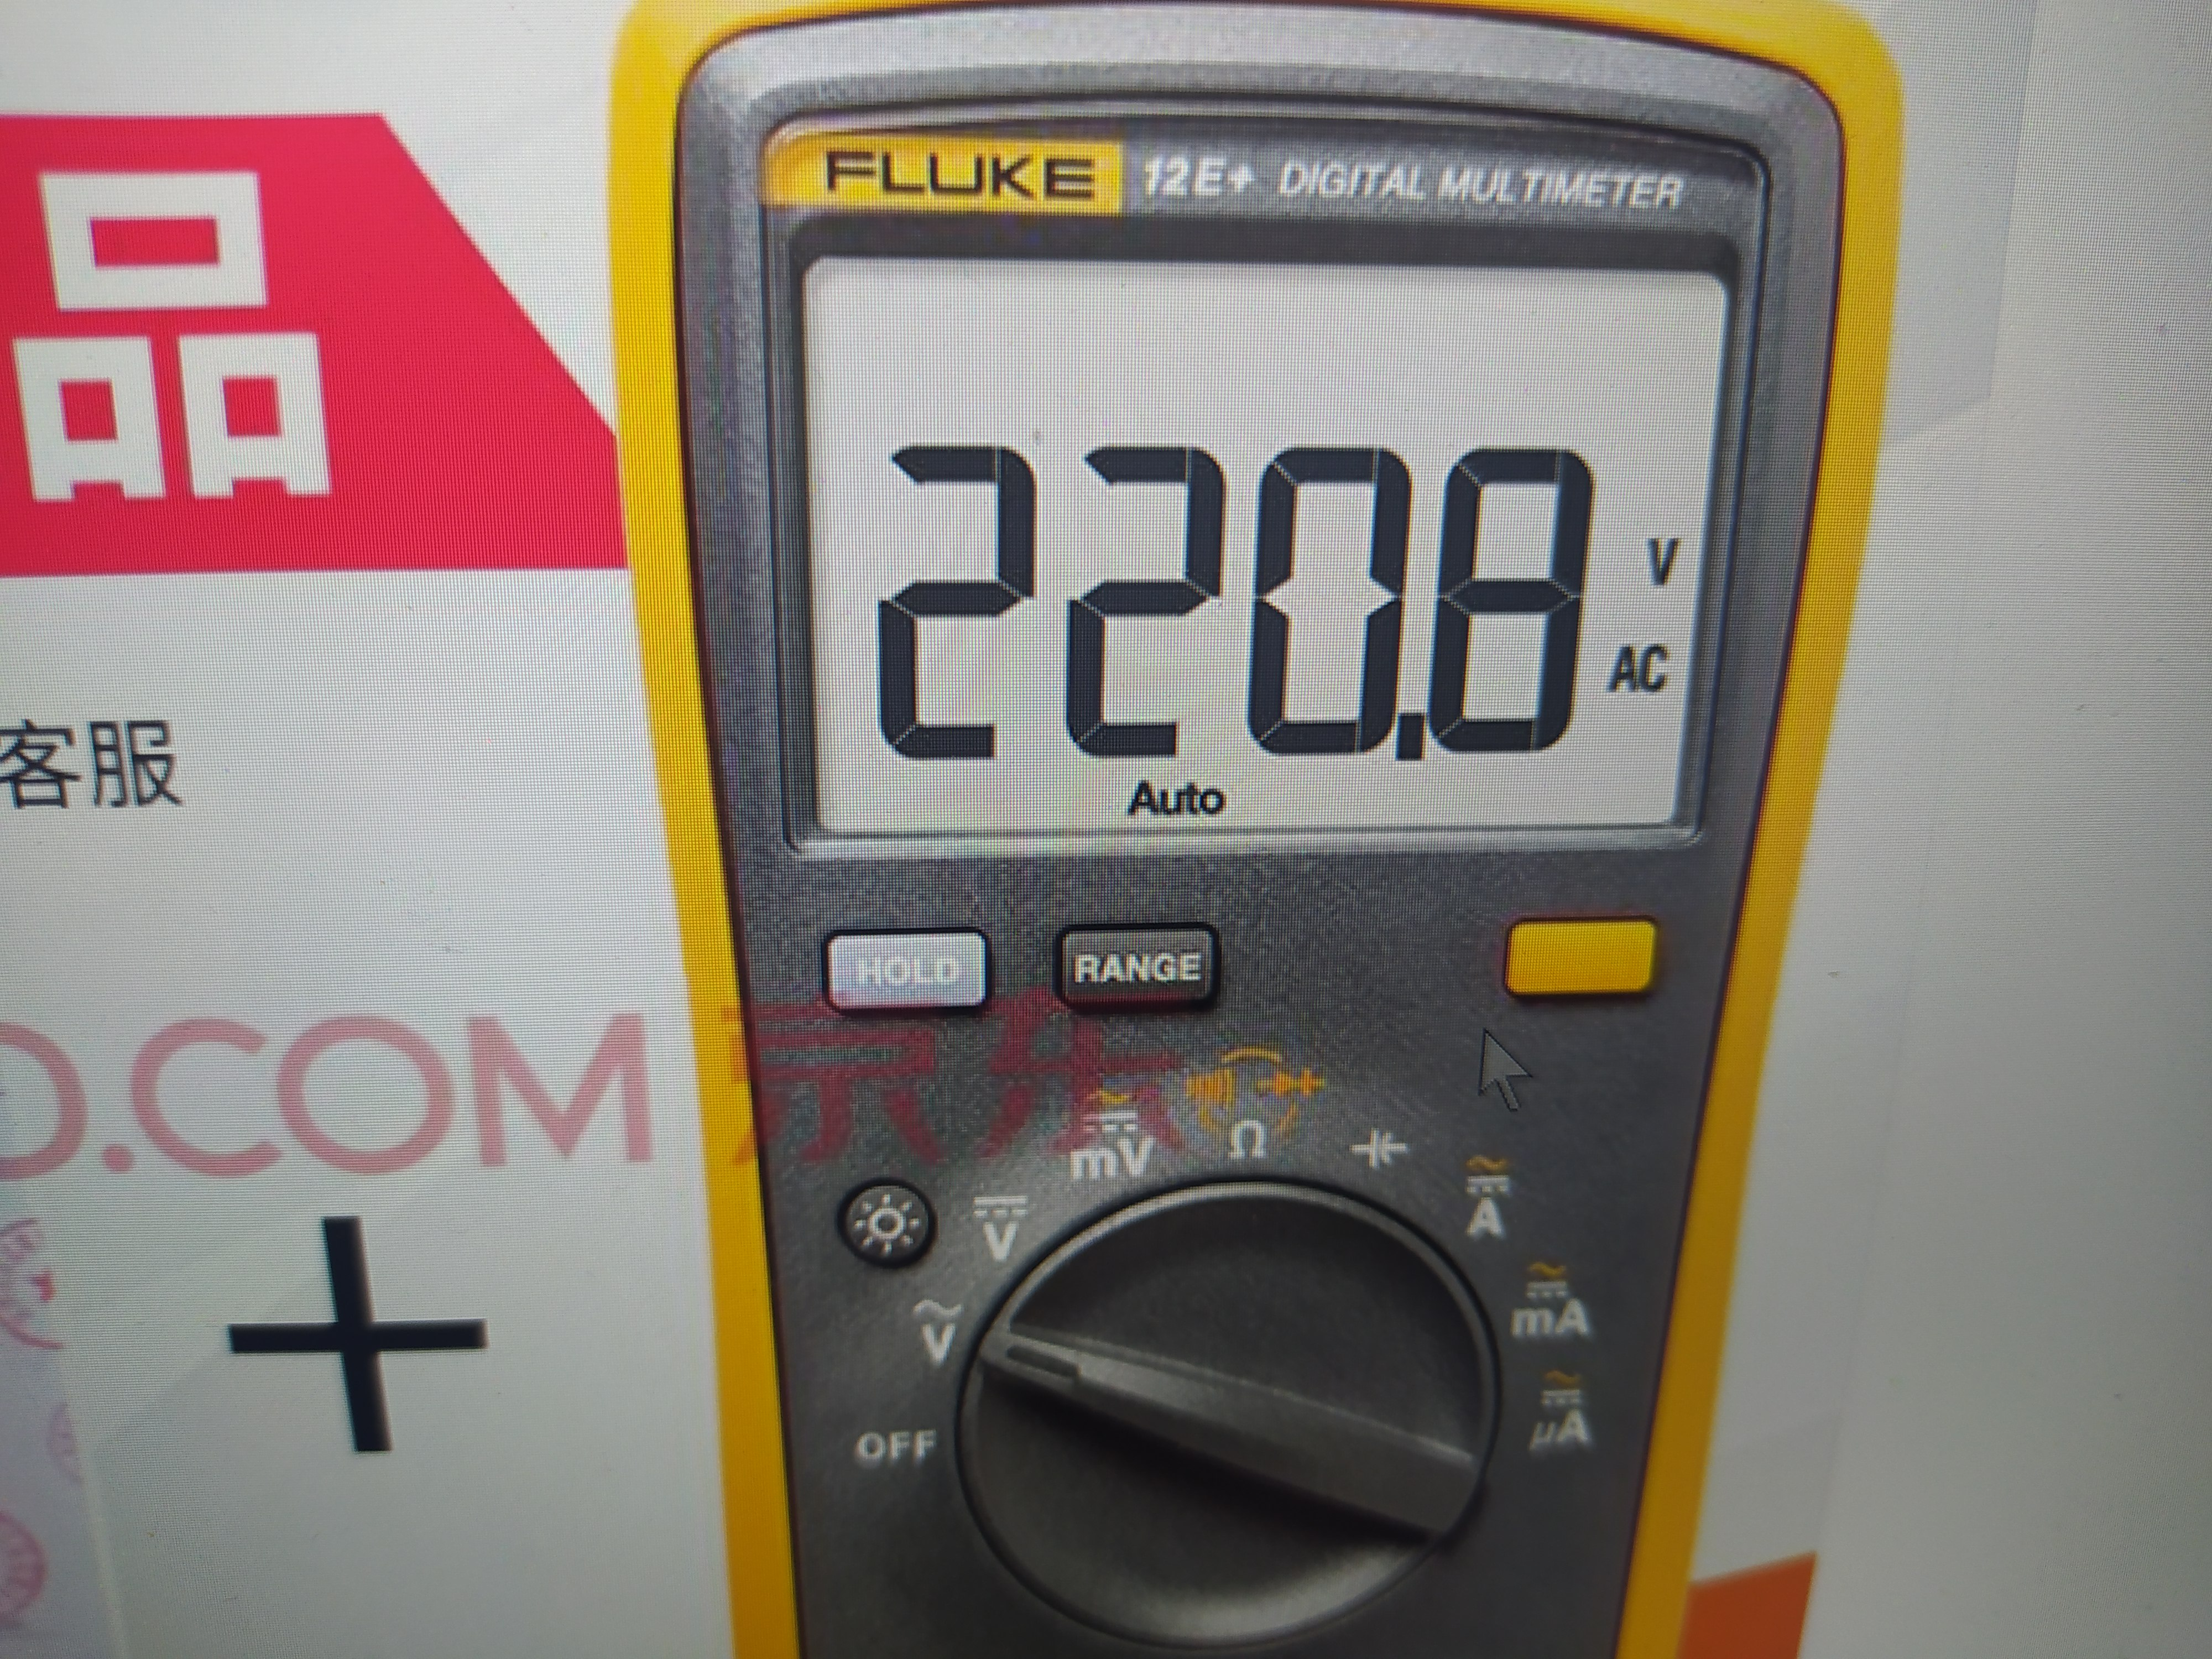.: (1397, 439, 1432, 770)
0: (1245, 441, 1406, 781)
1: (1143, 155, 1163, 213)
2: (1062, 441, 1238, 779), (873, 439, 1042, 769), (1165, 155, 1198, 213)
8: (1432, 441, 1597, 763)
